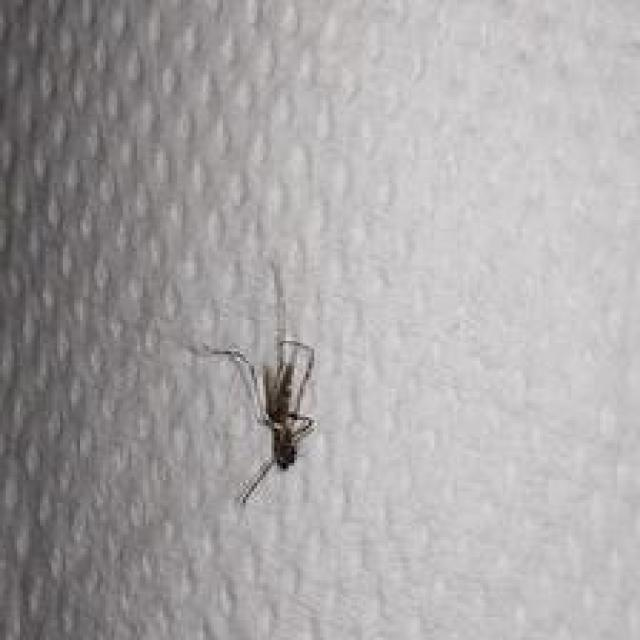Aedes albopictus: (194, 260, 320, 509)
